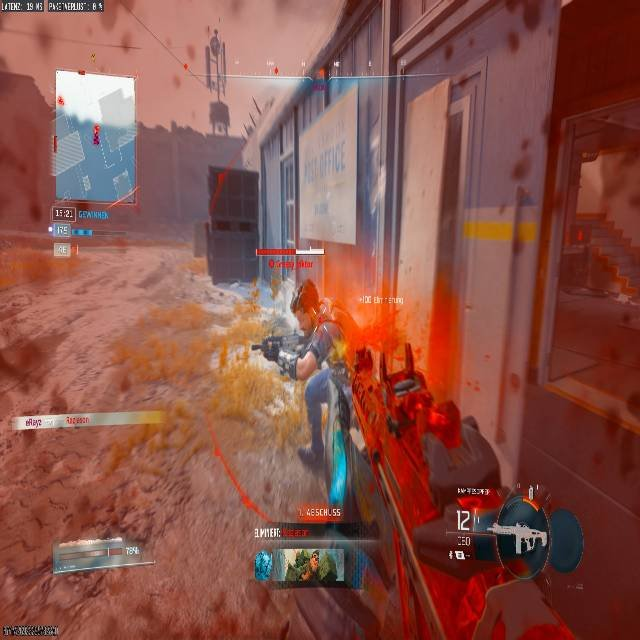head: (289, 279, 319, 326), (296, 278, 317, 302)
player: (236, 279, 405, 424), (261, 278, 354, 470), (286, 283, 340, 365)
